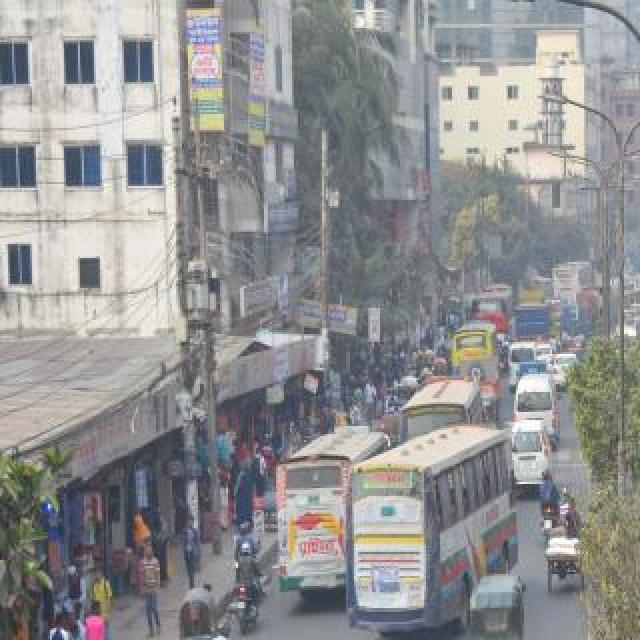bus: (346, 423, 518, 629), (276, 433, 386, 585), (400, 381, 484, 439), (453, 323, 499, 373), (471, 289, 515, 339), (553, 261, 593, 299), (518, 276, 554, 302)
motorbike: (235, 542, 263, 638), (537, 466, 561, 542), (206, 618, 244, 640), (501, 336, 509, 378), (548, 334, 560, 356)
truck: (456, 355, 500, 403)
van: (510, 419, 554, 493), (514, 373, 562, 439), (514, 303, 552, 343), (562, 318, 588, 358), (560, 304, 586, 324)
